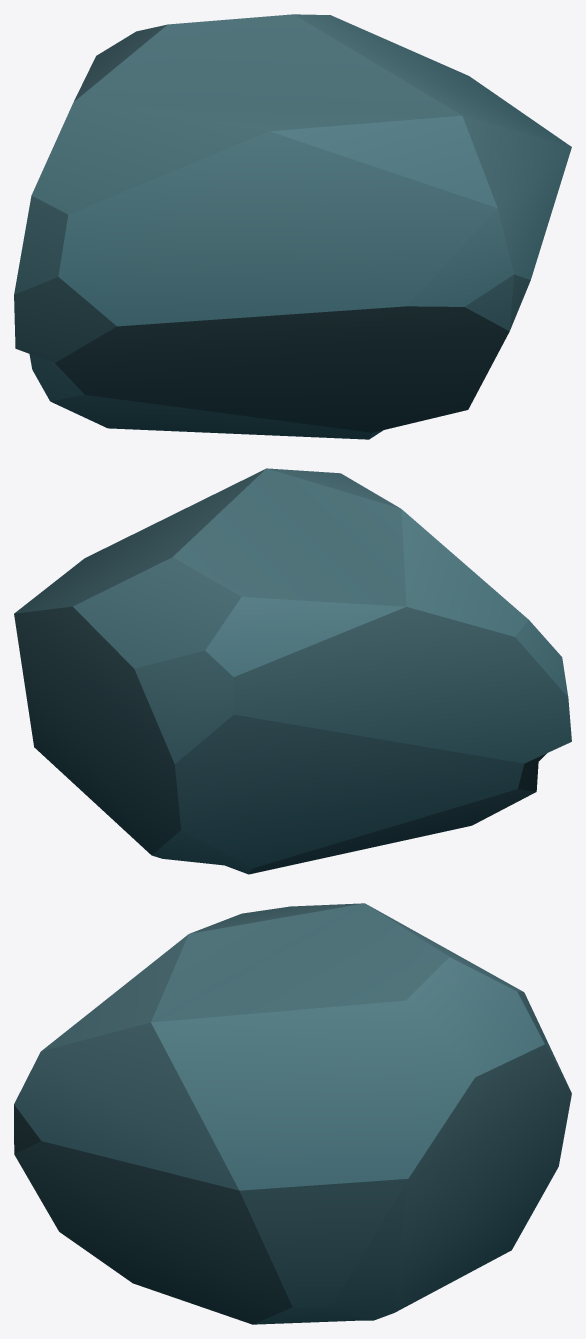
Rendered from stone_big_2.fbx.
The picture shows the model from 3 angles, top to bottom: view 1: azimuth 30°, elevation 25°; view 2: azimuth 150°, elevation 25°; view 3: azimuth 270°, elevation 25°; orthographic projection. The views are drawn at different scales.
Visible parts, largest first — view 1: stone_big_2; view 2: stone_big_2; view 3: stone_big_2.
Boxes of the visible parts, x1,y1,x2,y2 form: stone_big_2: [14, 14, 571, 439]; stone_big_2: [14, 468, 571, 874]; stone_big_2: [14, 903, 571, 1324].
Bounding box in the file's own units: 1.71 × 0.8774 × 1.61.
